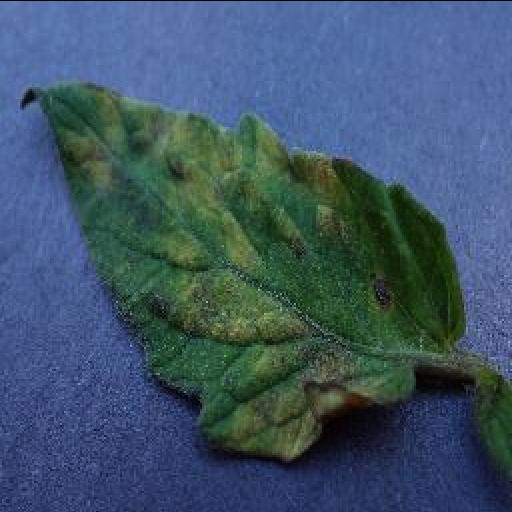disease_tomato: (30, 77, 466, 465)
